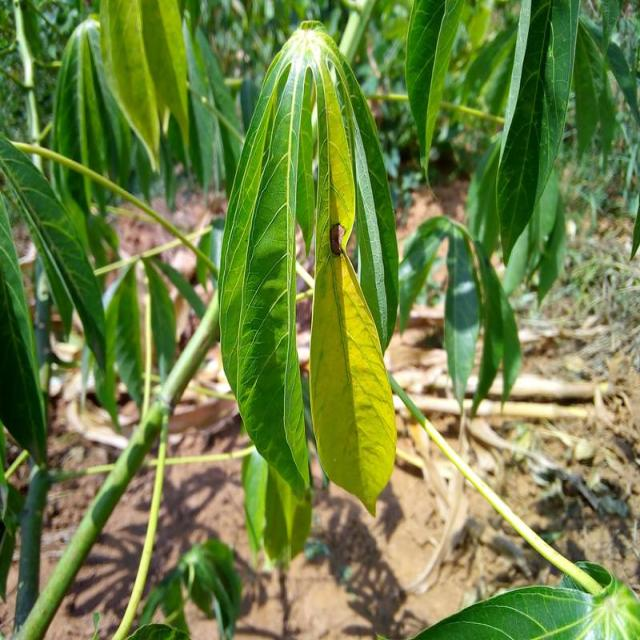Mosaico: (225, 11, 406, 554)
